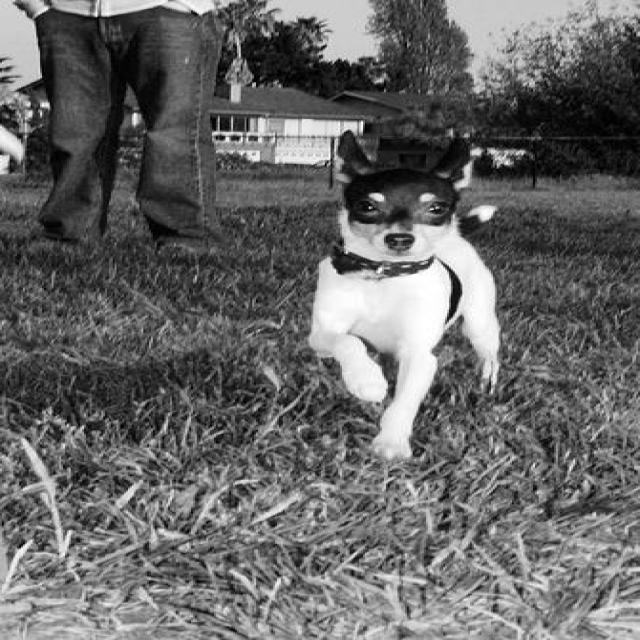toy_terrier: (302, 130, 500, 458)
